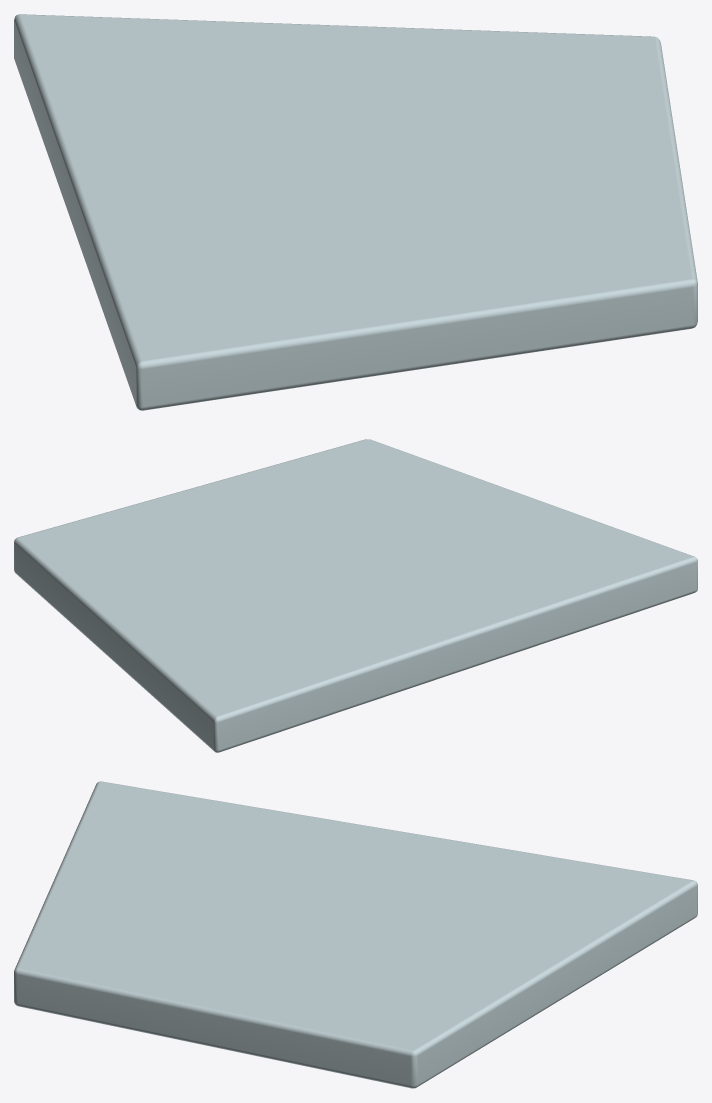
The model's file is ZH_PROP_LAB_GlassShard_02.fbx.
3 views of the same model, one above another, from view 1: azimuth 30°, elevation 25°; view 2: azimuth 150°, elevation 25°; view 3: azimuth 270°, elevation 25° (orthographic). The views are drawn at different scales.
Parts seen in each view (by area): view 1: Shard | thick edges.005; view 2: Shard | thick edges.005; view 3: Shard | thick edges.005.
Boxes of the visible parts, x1,y1,x2,y2 form: Shard | thick edges.005: [14, 14, 697, 410]; Shard | thick edges.005: [14, 439, 697, 752]; Shard | thick edges.005: [14, 781, 697, 1088].
Bounding box in the file's own units: 0.0385 × 0.0025 × 0.0408.
